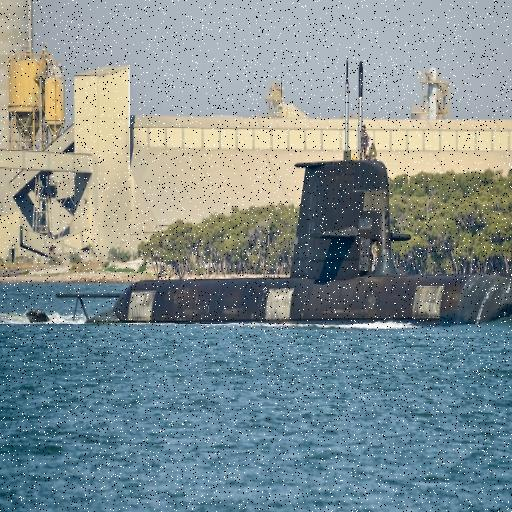submarine: (27, 57, 512, 328)
